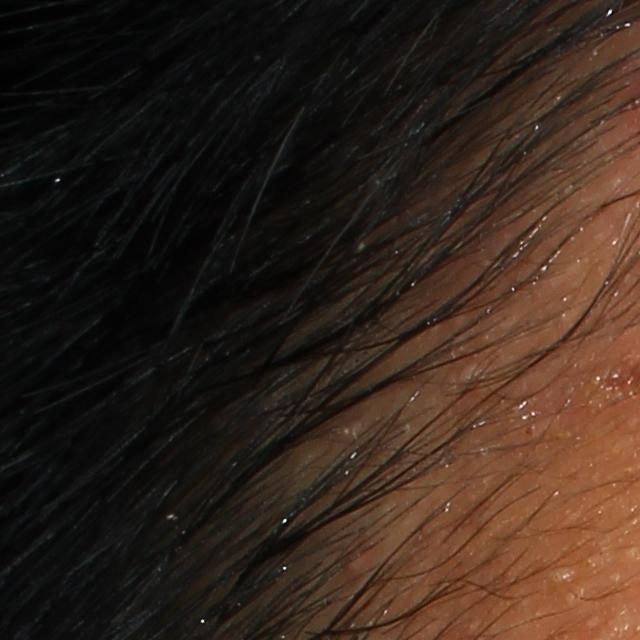comedo: (443, 350, 490, 397), (538, 563, 575, 593)
papule: (338, 544, 378, 580)
